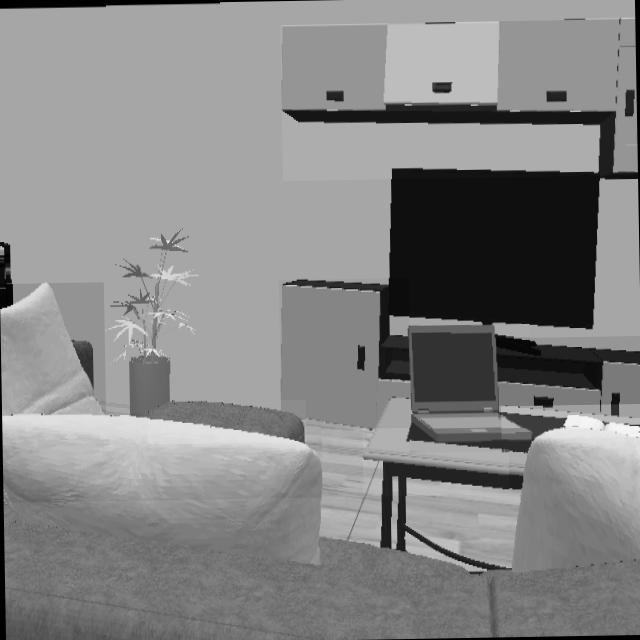cabinet: (281, 21, 637, 175), (280, 279, 410, 428), (496, 338, 640, 418)
laptop: (407, 326, 531, 450)
pillow: (2, 415, 322, 566), (510, 426, 640, 574), (0, 283, 106, 421)
sofa: (3, 503, 640, 640), (147, 401, 306, 441)
table: (362, 398, 526, 552), (501, 407, 640, 438)
